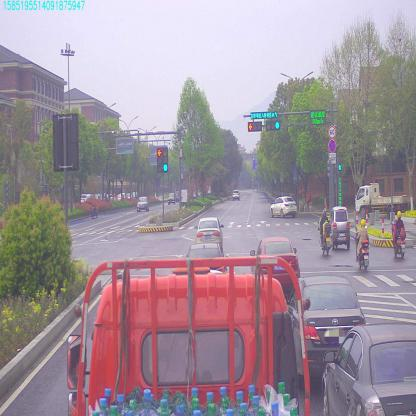traffic-light: (266, 121, 283, 132), (250, 110, 278, 116), (247, 120, 262, 128)
